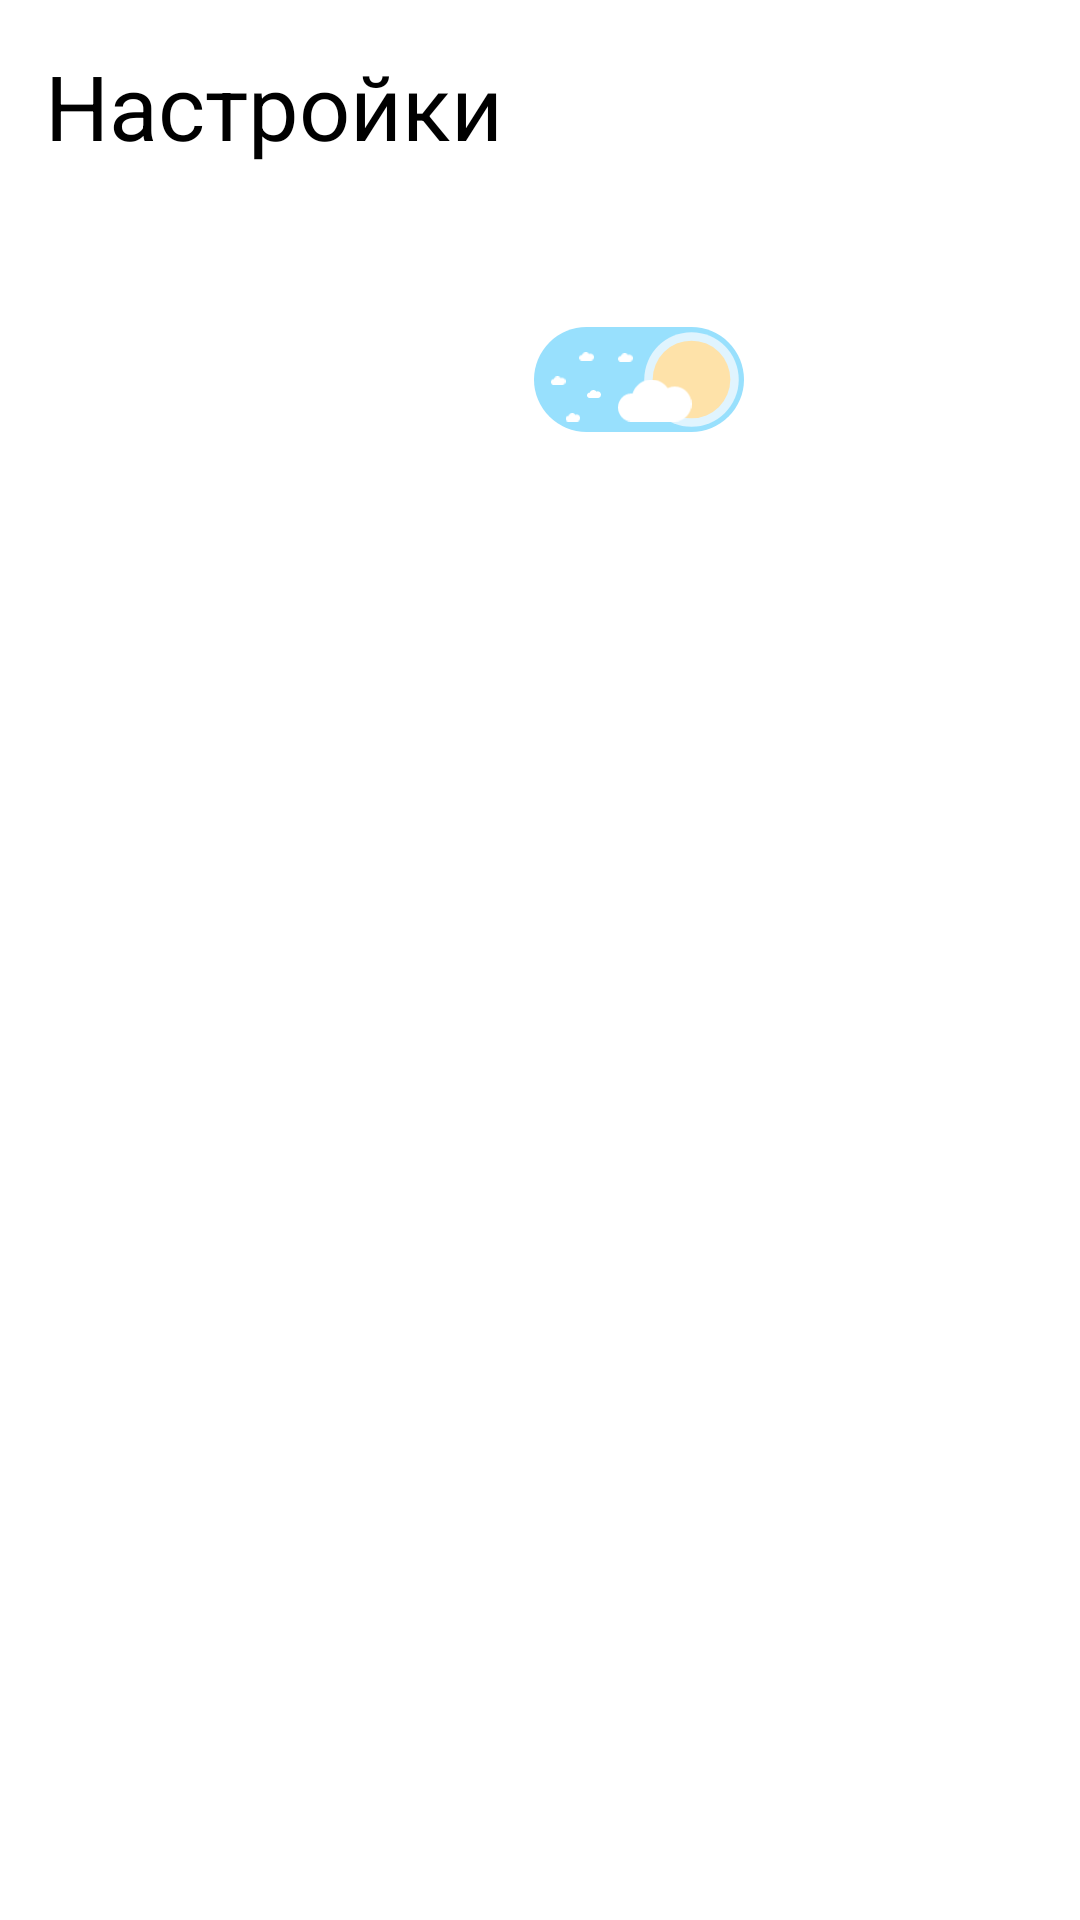

Where to tap for icons on this 1080 × 1920 app screen, as point (x, y):
switch theme: point (639, 379)
